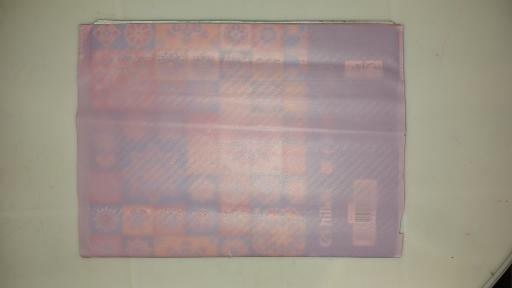notebook: (76, 21, 404, 258)
